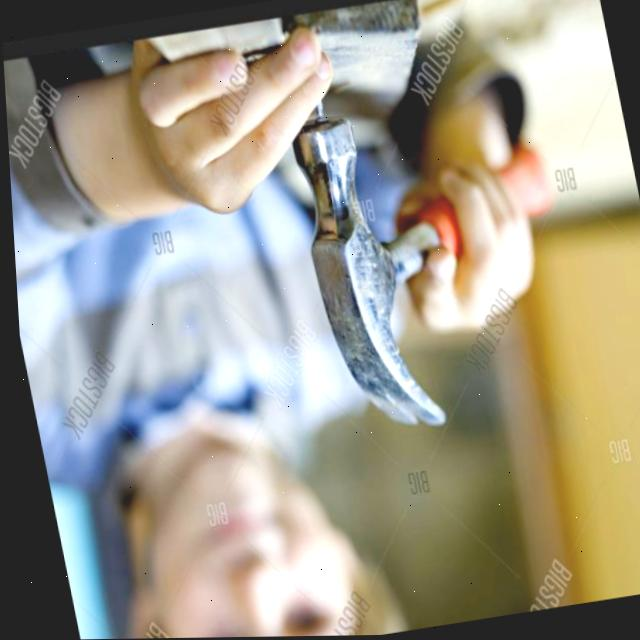hammer: (274, 87, 608, 448)
